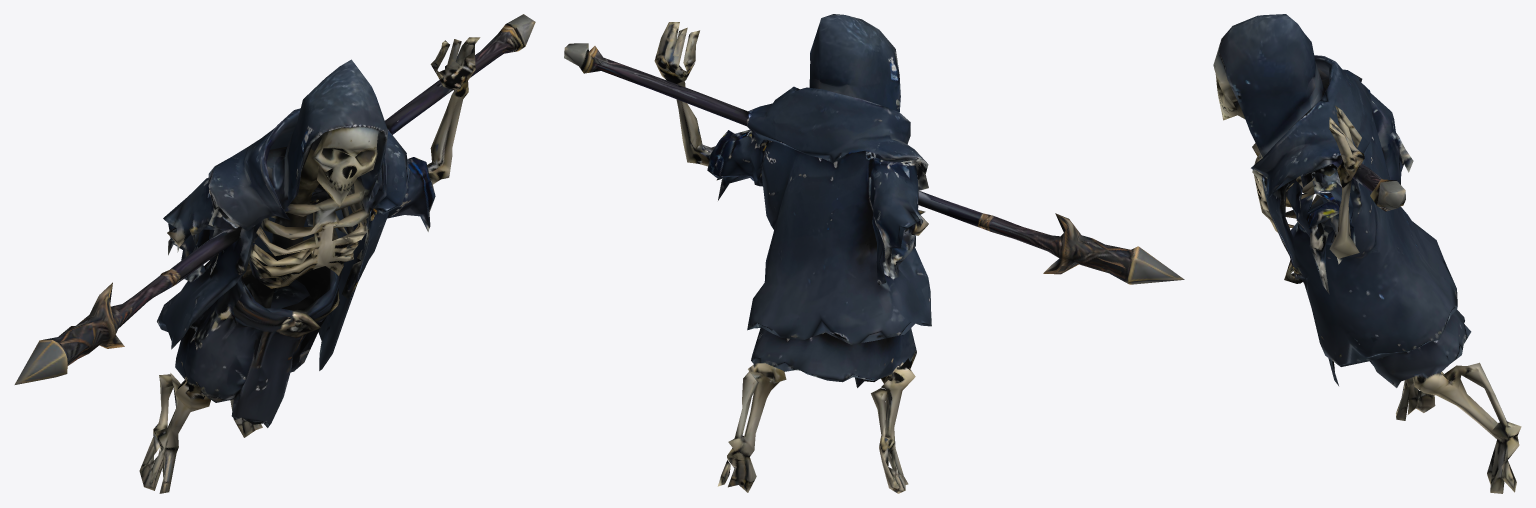
File: wizard+skeleton+3d+model.obj
The picture shows the model from 3 angles, left to right: view 1: azimuth 30°, elevation 25°; view 2: azimuth 150°, elevation 25°; view 3: azimuth 270°, elevation 25°; orthographic projection. The views are drawn at different scales.
Visible parts, largest first — view 1: tripo_node_ed6a8968-bb3b-4d2e-9ea6-af6ddd89f619; view 2: tripo_node_ed6a8968-bb3b-4d2e-9ea6-af6ddd89f619; view 3: tripo_node_ed6a8968-bb3b-4d2e-9ea6-af6ddd89f619.
Boxes of the visible parts, x1,y1,x2,y2 form: tripo_node_ed6a8968-bb3b-4d2e-9ea6-af6ddd89f619: (14, 14, 535, 493); tripo_node_ed6a8968-bb3b-4d2e-9ea6-af6ddd89f619: (564, 14, 1184, 493); tripo_node_ed6a8968-bb3b-4d2e-9ea6-af6ddd89f619: (1213, 14, 1521, 493).
Size of the model in its own units: 1 by 0.7157 by 0.4176.
1 material, 1 textured.
